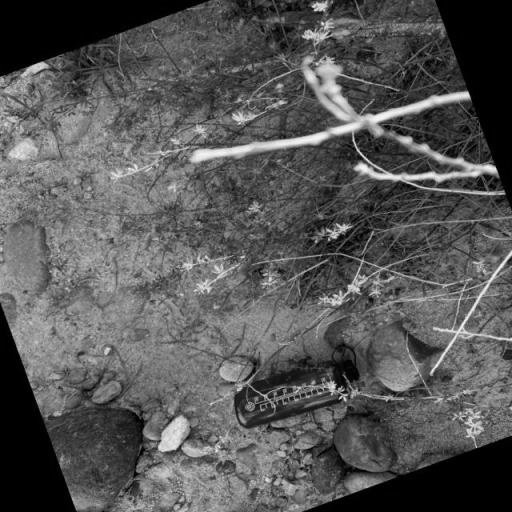bottle: (227, 342, 369, 437)
